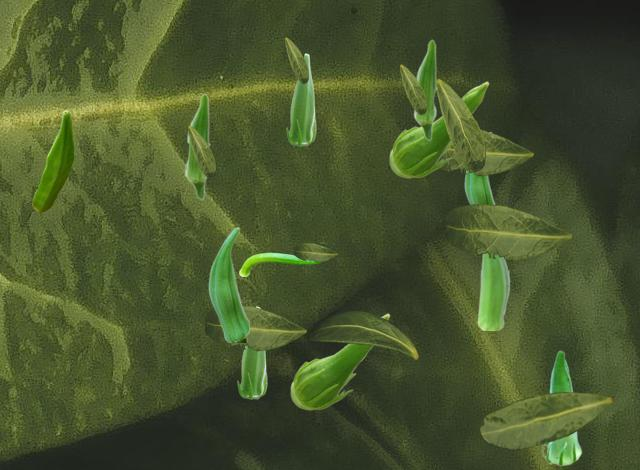okra: (290, 313, 389, 409), (389, 81, 488, 177), (541, 350, 581, 465), (208, 226, 248, 341), (32, 110, 73, 211), (237, 306, 266, 398), (286, 53, 315, 145), (184, 93, 209, 199), (477, 254, 509, 329), (413, 39, 436, 140), (464, 131, 495, 203), (239, 252, 323, 275)
